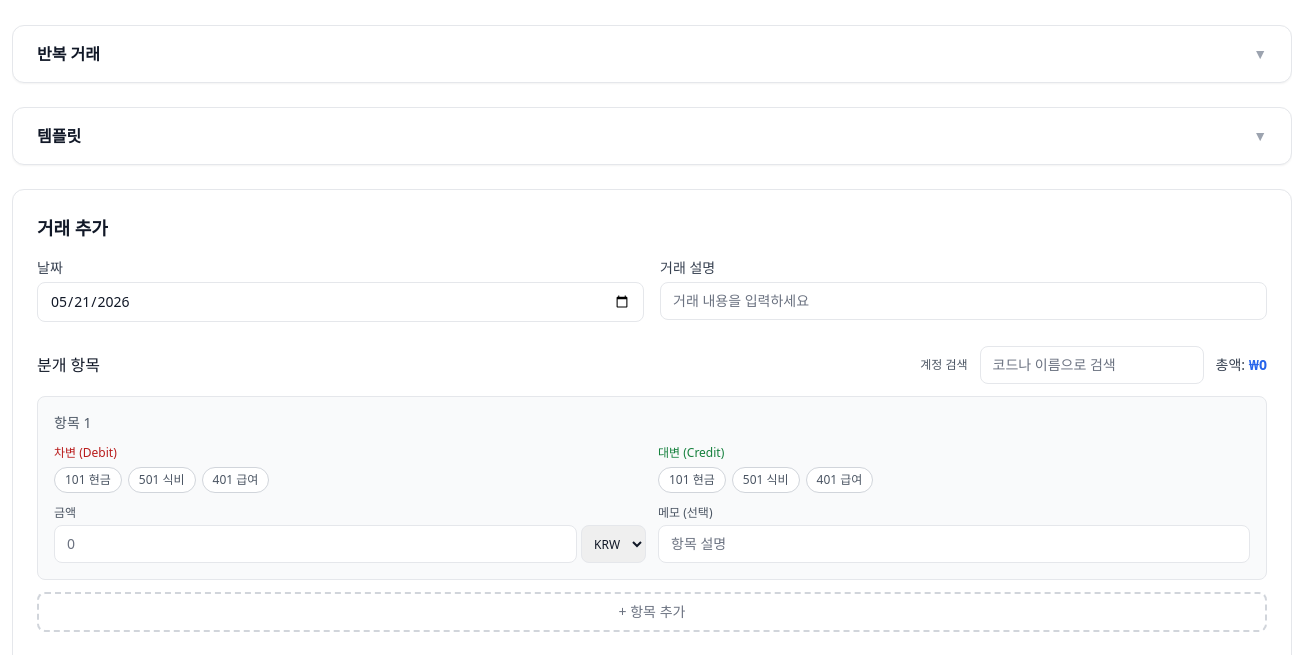
Test: TransactionsPage › 거래 저장 실패 시 에러를 표시한다
This screenshot has width=1304, height=655.
expect the heading "거래 추가" is shown: met, box [37,214,108,242]
Click the button "501 식비" below "차변 (Debit)": (162, 480) [128,467,196,493]
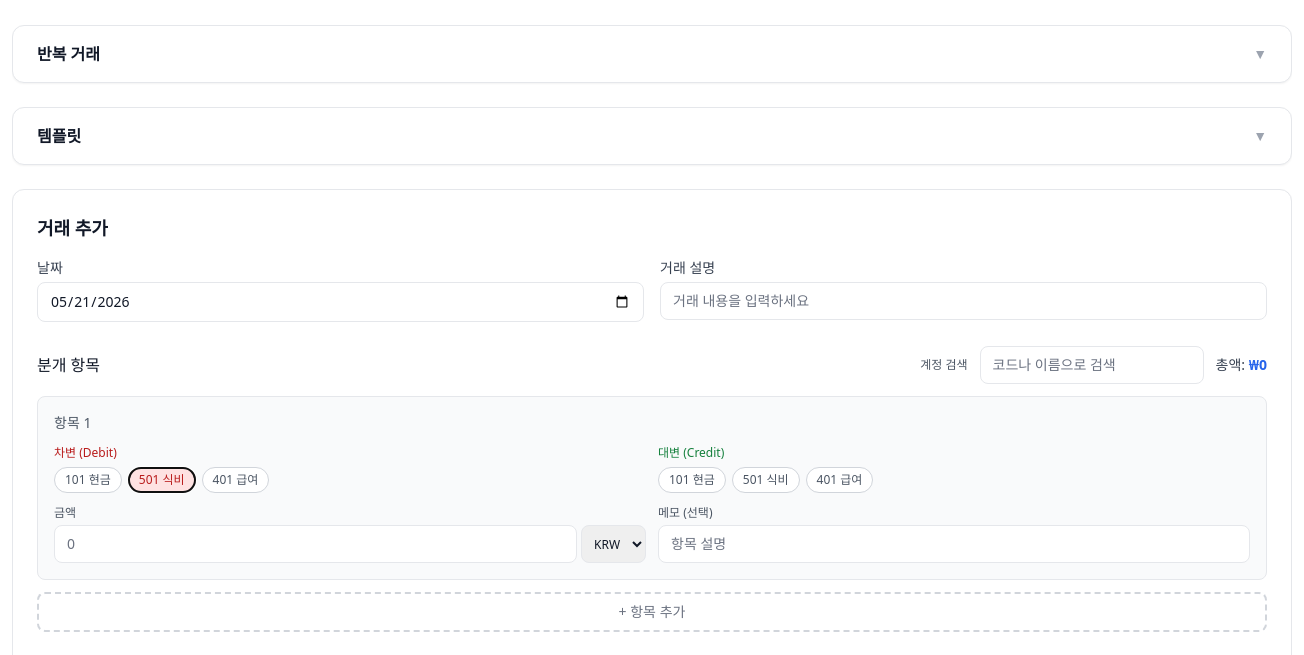
Click the button "101 현금" below "대변 (Credit)": (692, 480) [658,467,726,493]
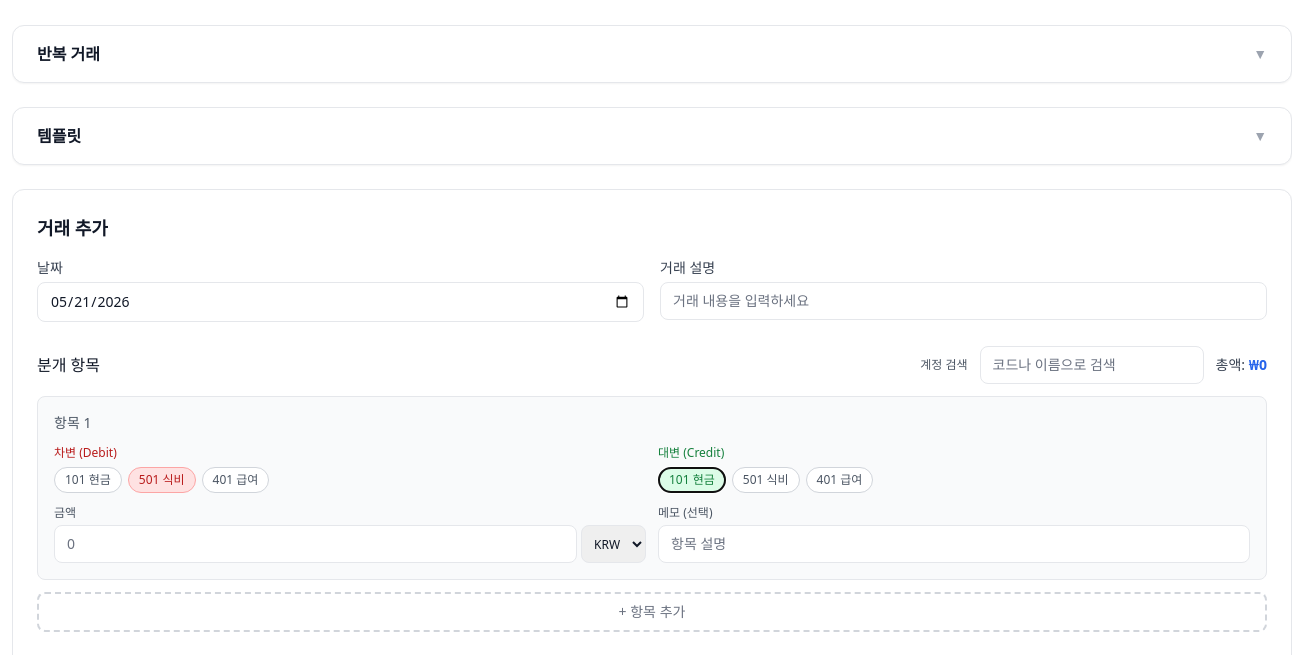
In the number field with placeholder "0": (316, 544) [54,525,577,563], type "15000"
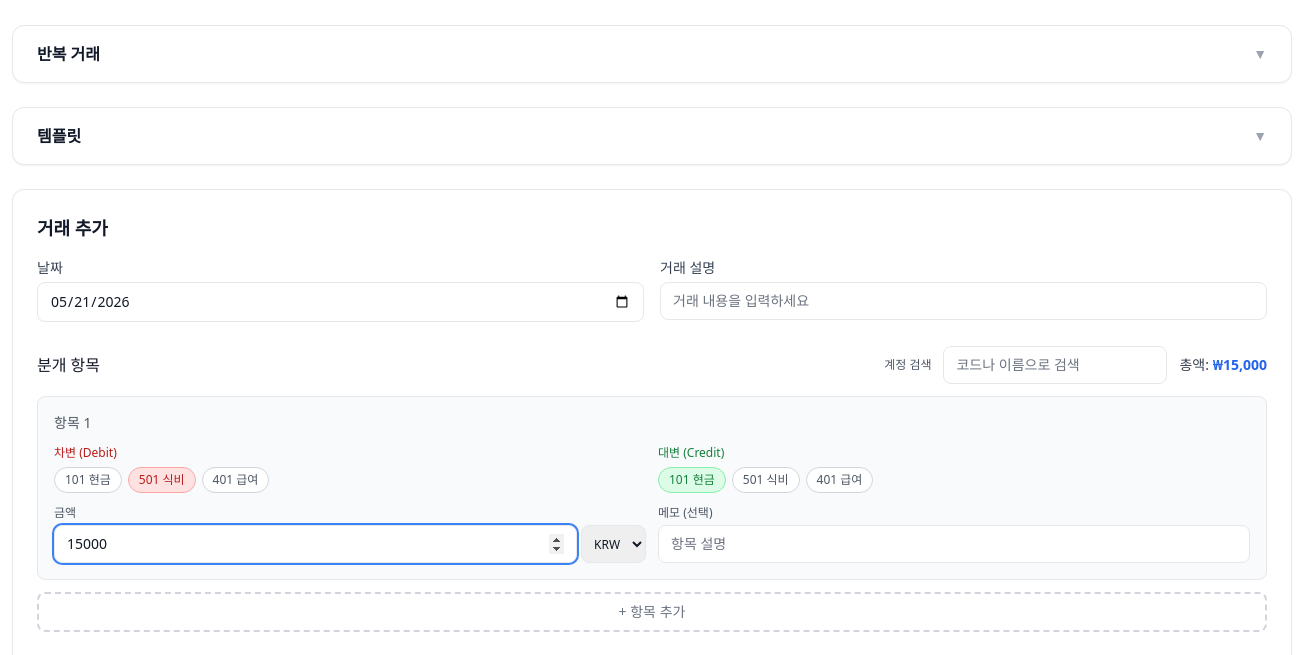
In the field with placeholder "거래 내용을 입력하세요": (964, 301) [660,282,1267,320], type "점심"
(page scrolled)
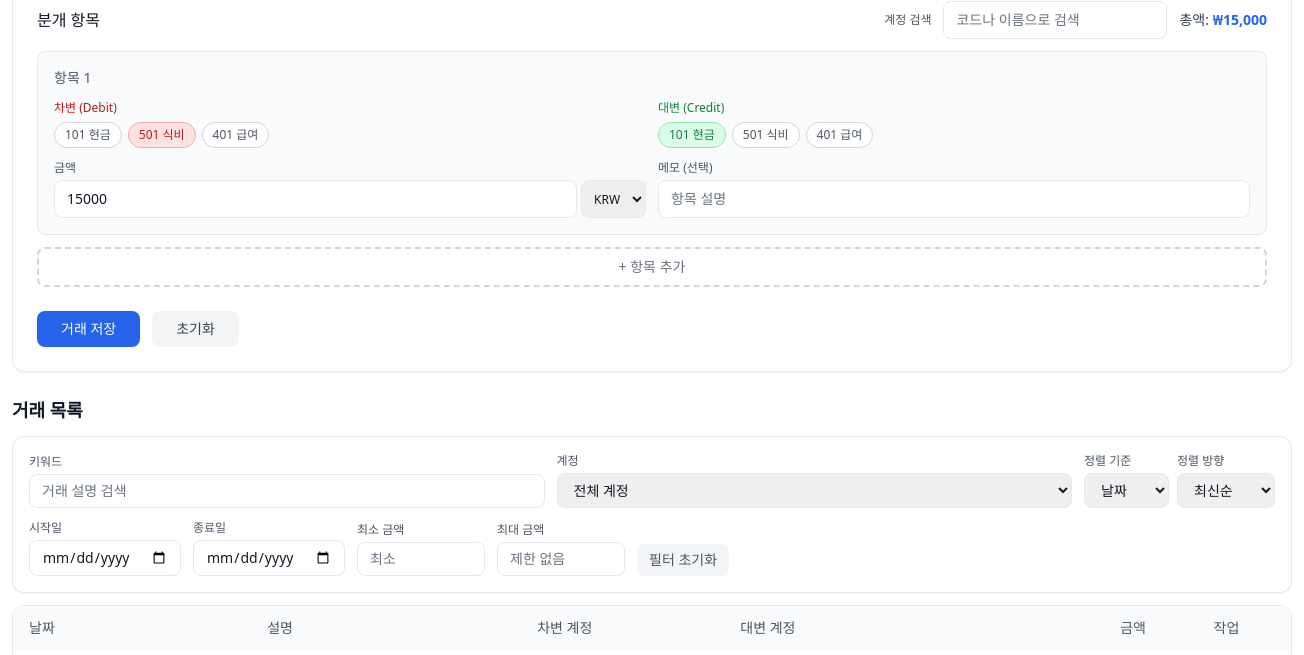
Click the button "거래 저장": (89, 329) [37,311,140,347]
(page scrolled)
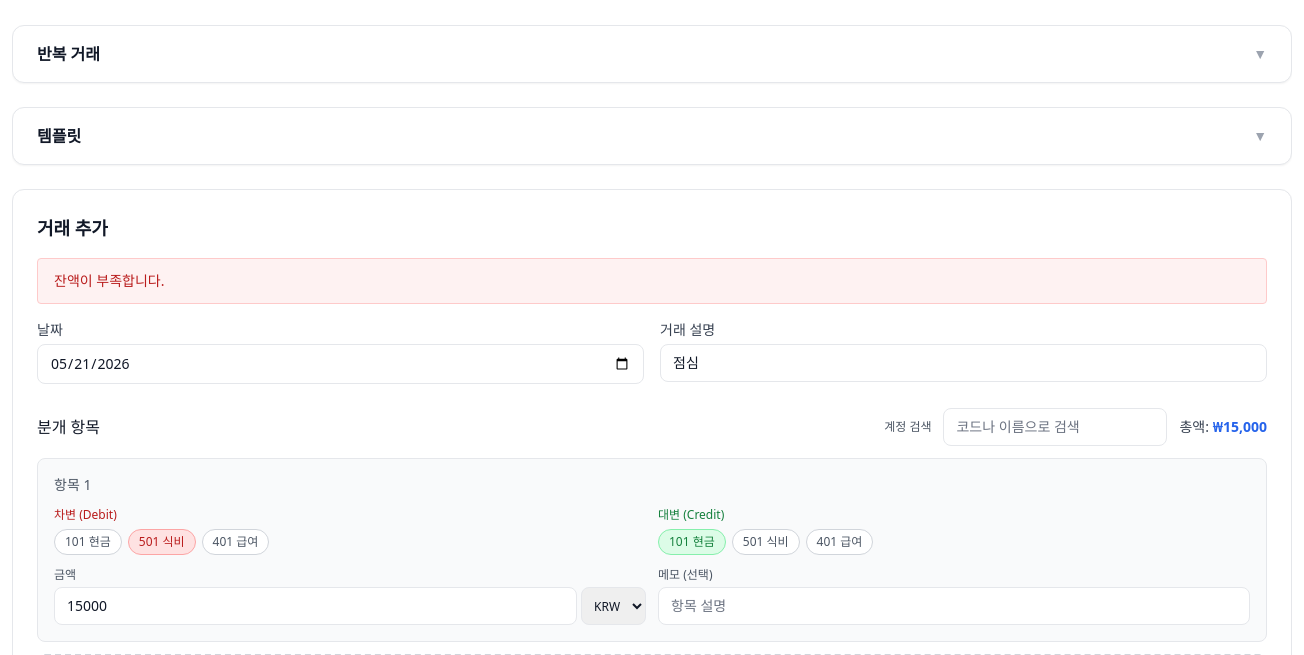
expect the text "잔액이 부족합니다." is shown: met, box [37,258,1267,304]
